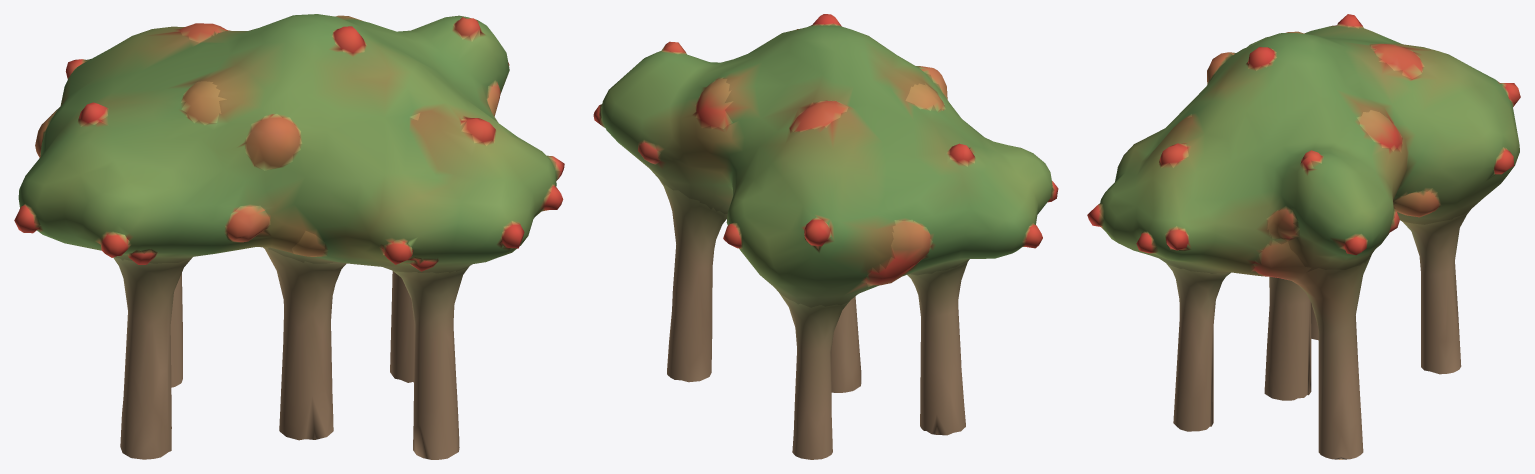
Rendered from cluster7.glb.
3 views of the same model, side by side, from view 1: azimuth 30°, elevation 25°; view 2: azimuth 150°, elevation 25°; view 3: azimuth 270°, elevation 25° (orthographic). The views are drawn at different scales.
Visible parts, largest first — view 1: body; view 2: body; view 3: body.
Part boxes in pixels (<box>): body: <box>14,14,564,459</box>; body: <box>593,14,1058,459</box>; body: <box>1087,14,1520,459</box>.
Bounding box in the file's own units: 8.6 × 6.63 × 7.35.
